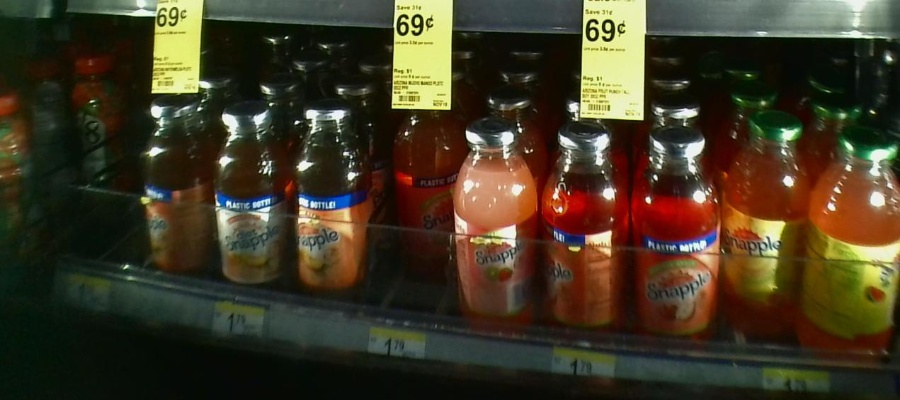bottle: (807, 111, 896, 360), (630, 117, 719, 354), (545, 115, 629, 342), (456, 120, 542, 341), (724, 113, 801, 345), (290, 96, 368, 299), (212, 96, 289, 290), (140, 84, 211, 285), (388, 91, 455, 280)
